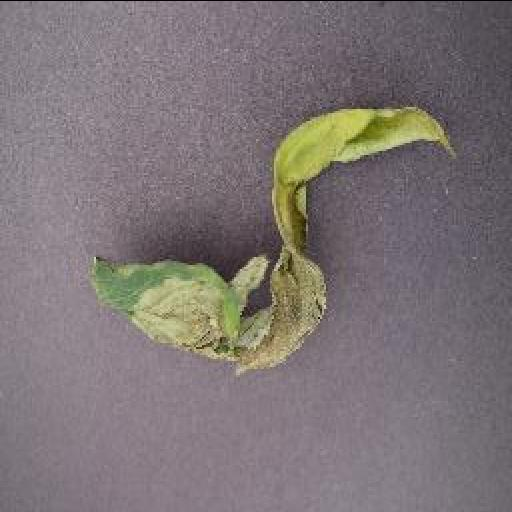disease_tomato: (91, 100, 457, 378)
